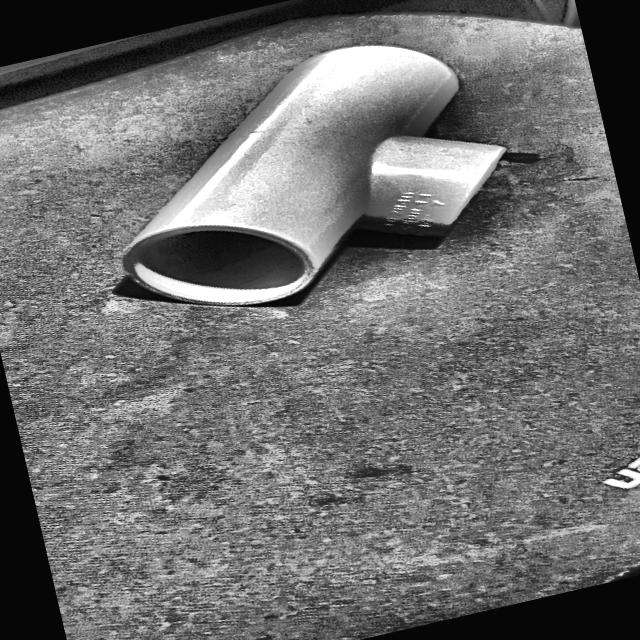EQUALTEE: (114, 44, 505, 307)
